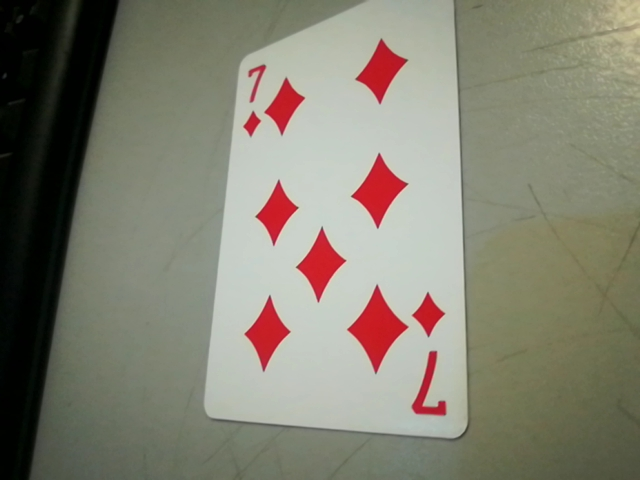fk 7: (403, 284, 459, 432)
